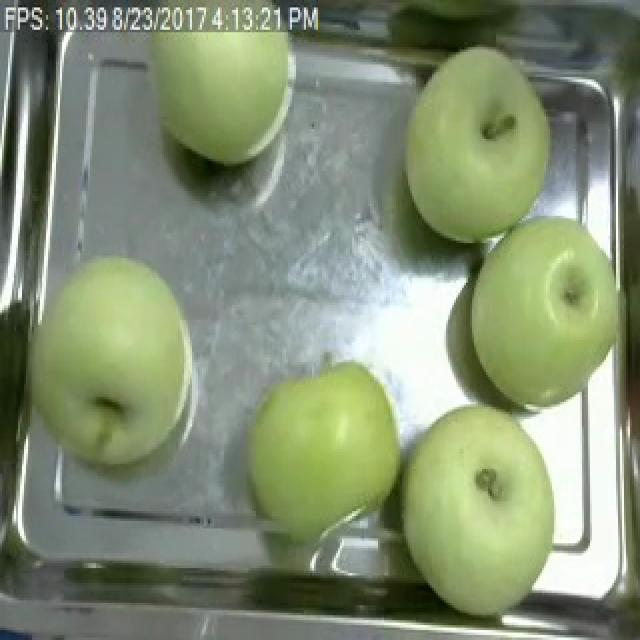50-_ripeness: (41, 247, 204, 467), (402, 397, 557, 616), (136, 2, 302, 194), (246, 371, 396, 572), (475, 209, 612, 412), (408, 43, 547, 238)
